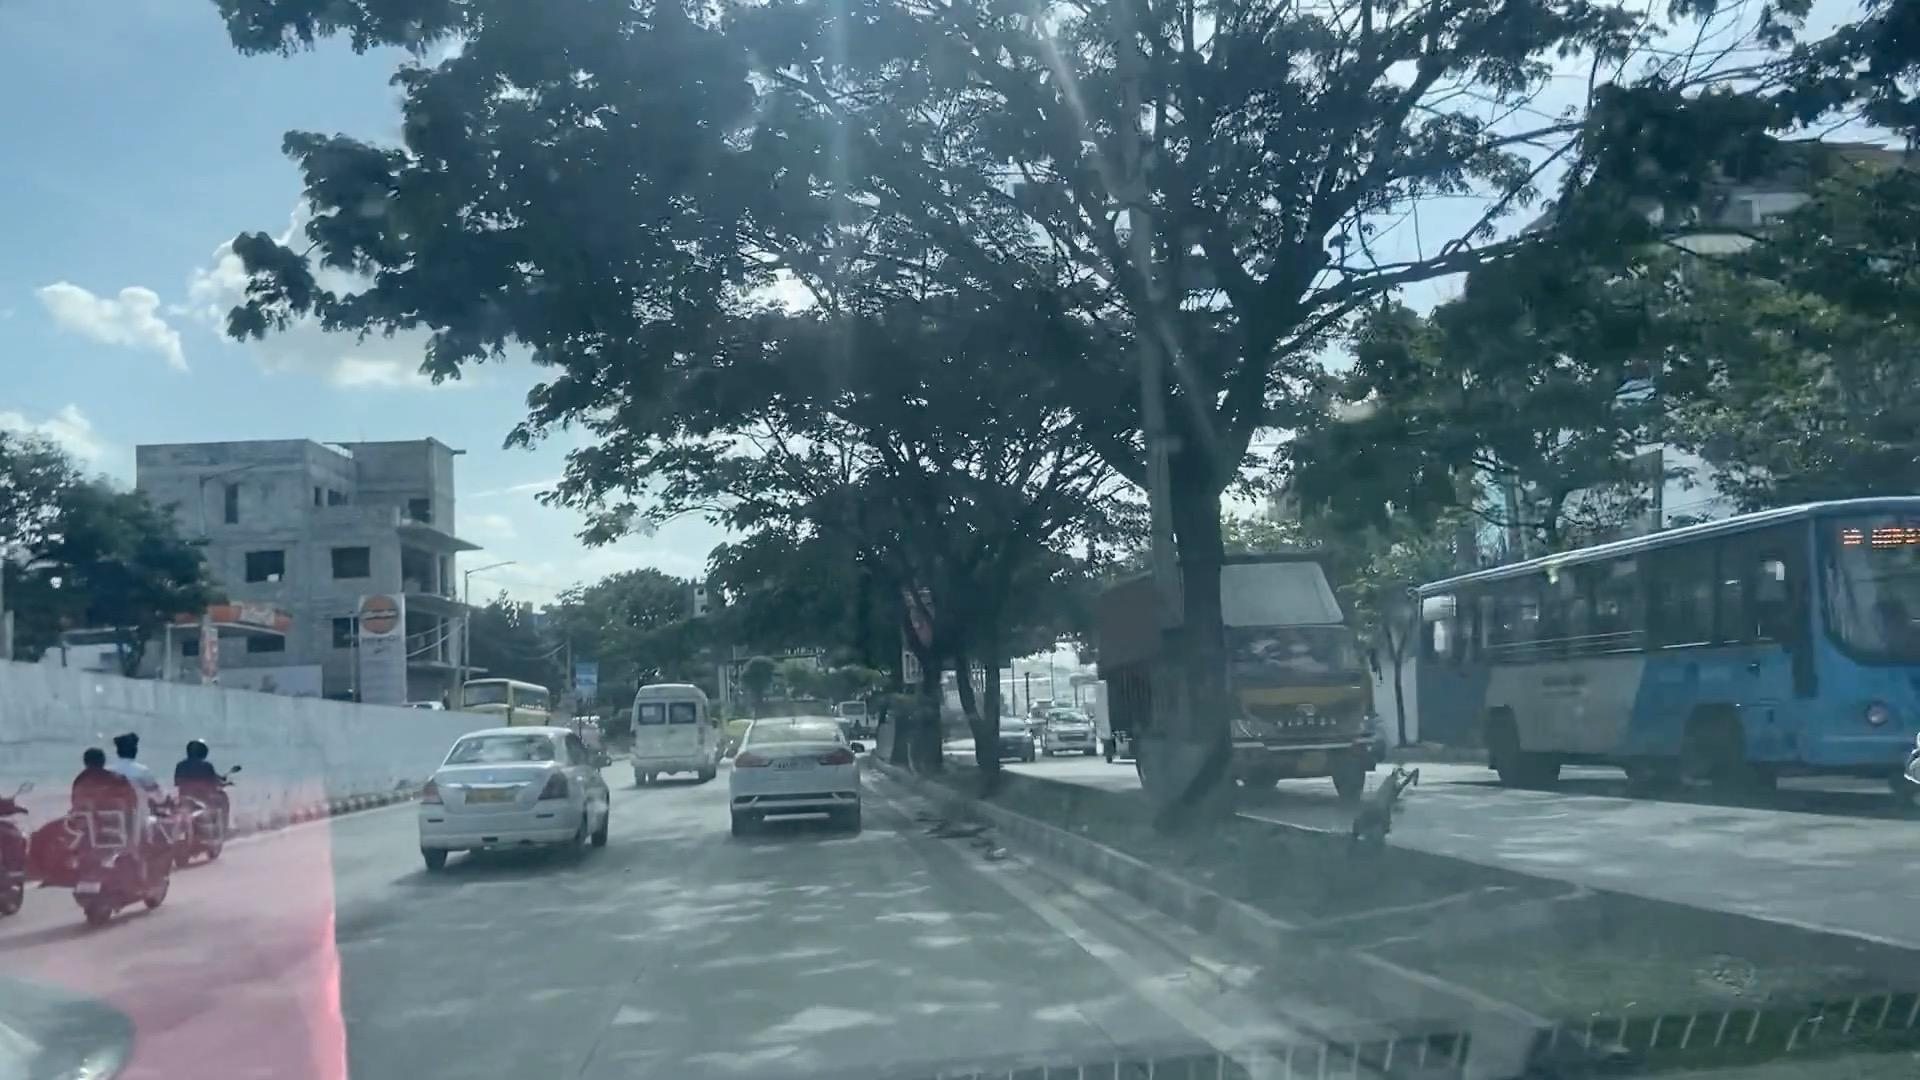HMV: (638, 680, 705, 792)
LMV: (48, 730, 165, 912), (435, 725, 590, 857), (172, 722, 265, 870), (740, 710, 852, 825)
